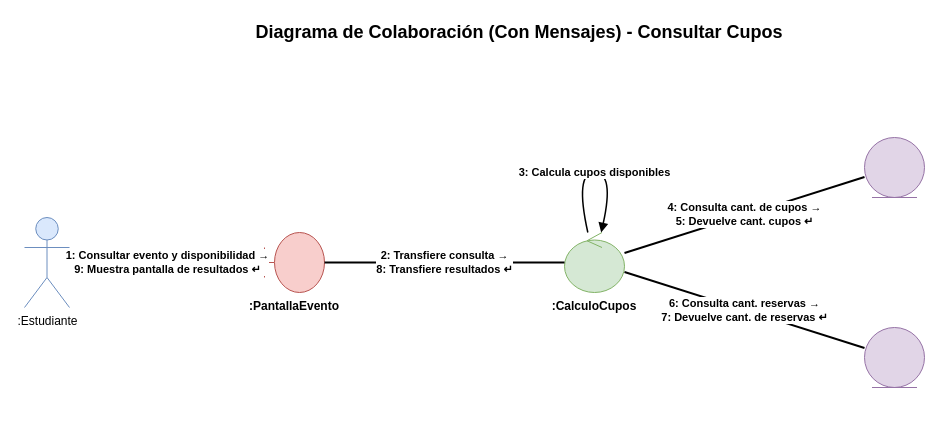
Image size: 942x425. Some labels were removed from this diagram. The shapes that lost their labels are listed below. From the top down, each one's centre as x and y in pixels, then its label:
At (894,167): ":Evento".
At (894,357): ":Reserva".
